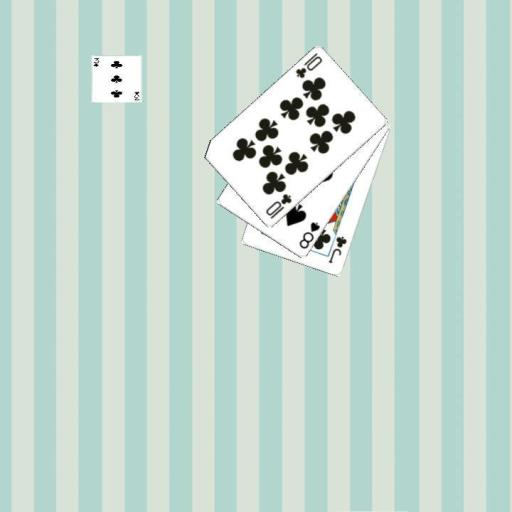card-corner: (292, 50, 324, 80), (262, 190, 293, 220), (296, 219, 321, 251), (326, 233, 348, 265)
